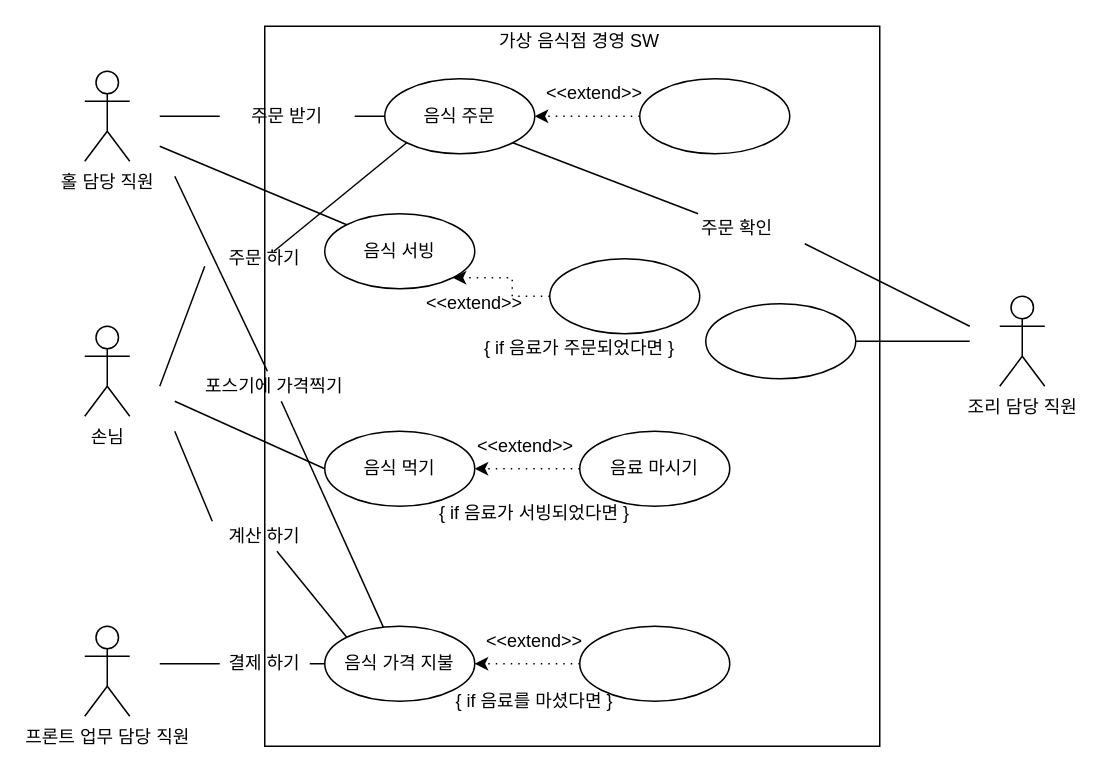
This 1103x774 diagram has some shape labels left out. Each missing label, with the centre of its shape:
음료 가격 지불: the point at 654,663
음료 서빙: the point at 624,295
음료 주문: the point at 714,115
음식 조리: the point at 780,340
